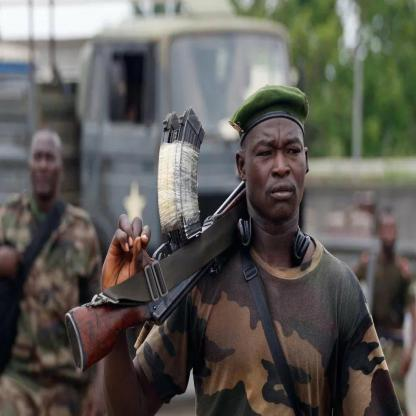rifle: (64, 105, 248, 374)
